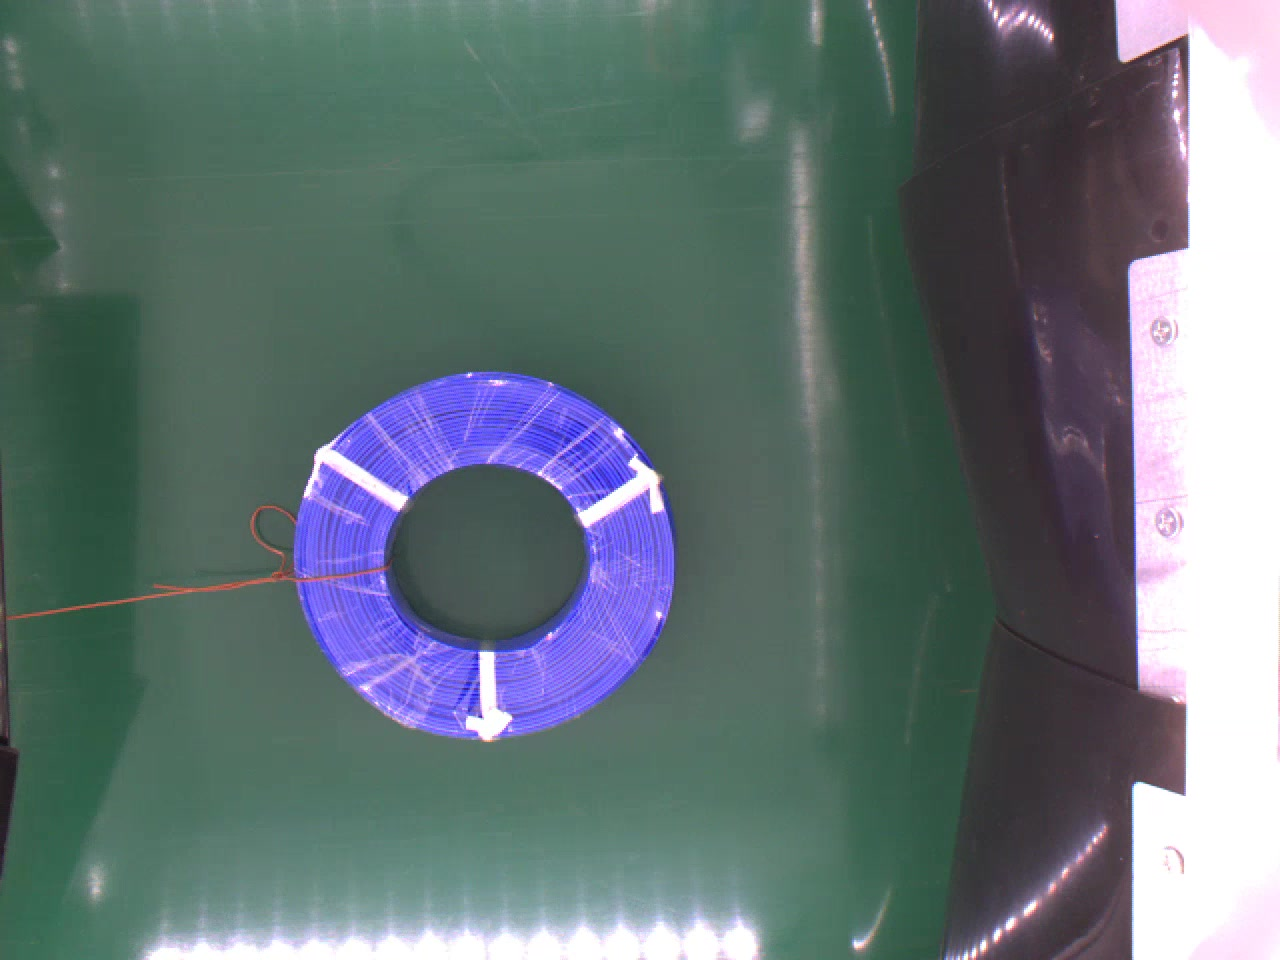blue: (291, 368, 685, 740)
